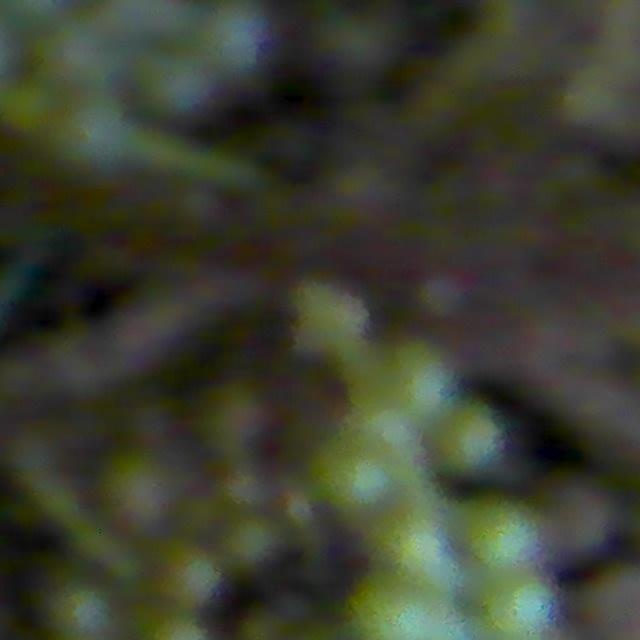SeaGrape: (52, 91, 141, 178), (315, 3, 405, 82), (44, 15, 130, 95), (102, 452, 182, 534), (354, 575, 453, 640), (458, 501, 543, 576), (375, 338, 451, 418), (316, 437, 390, 515), (368, 514, 450, 584), (200, 383, 274, 456), (140, 49, 214, 120), (204, 3, 274, 78), (436, 397, 497, 480), (484, 576, 561, 640), (159, 543, 224, 610), (49, 581, 115, 640), (1, 80, 58, 136)
